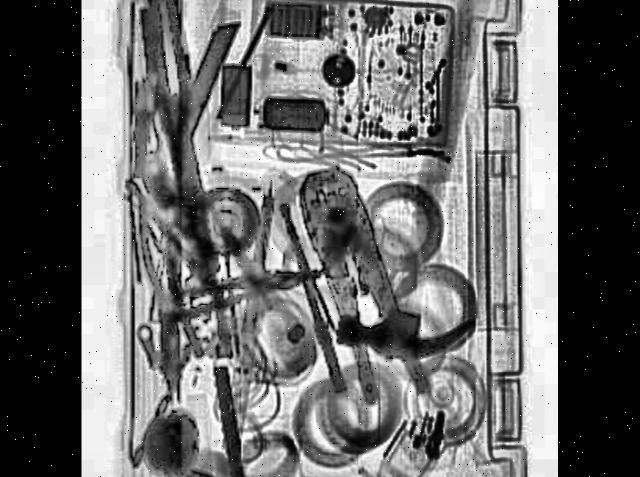Pliers: (282, 148, 432, 434), (143, 204, 232, 368), (160, 257, 322, 324)
